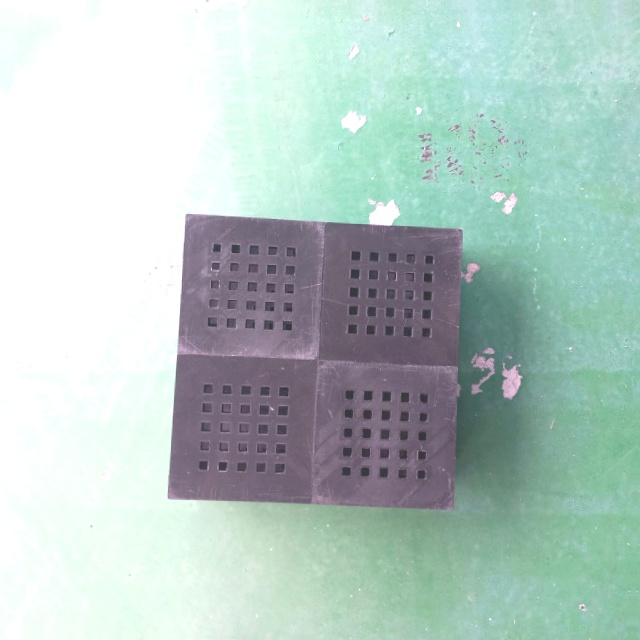pallet: (160, 208, 468, 513)
